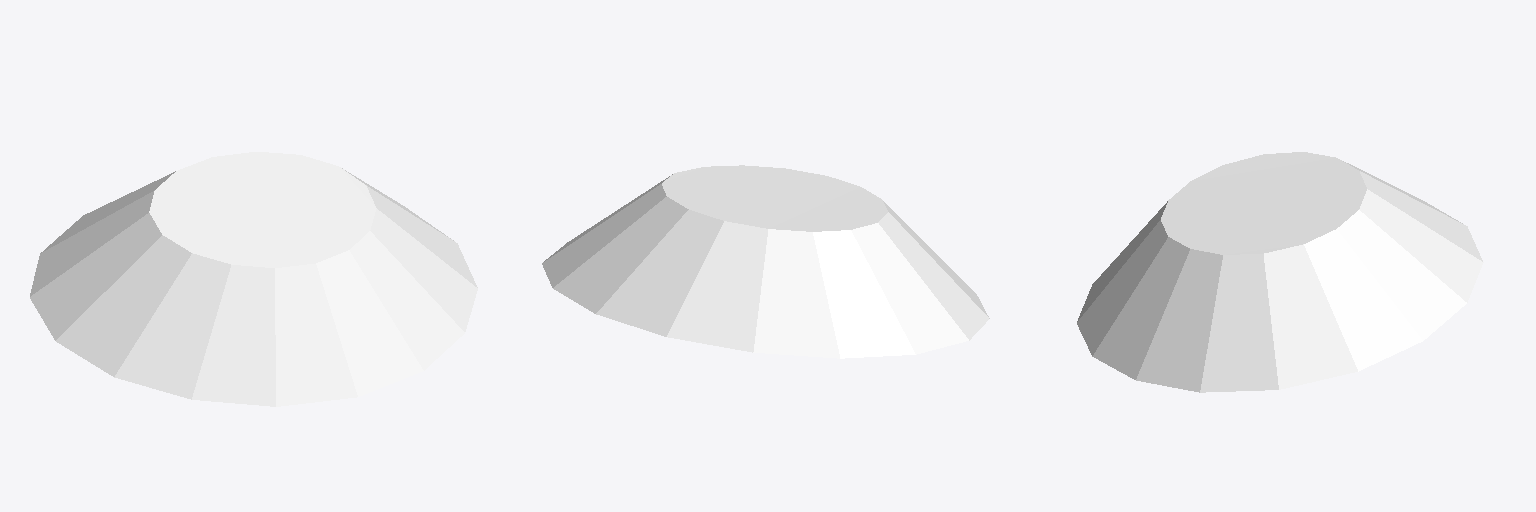
The model's file is denggan-dengpao.obj.
The picture shows the model from 3 angles: view 1: azimuth 30°, elevation 25°; view 2: azimuth 150°, elevation 25°; view 3: azimuth 270°, elevation 25°; orthographic projection.
Visible parts, largest first — view 1: denggan_dengpao; view 2: denggan_dengpao; view 3: denggan_dengpao.
Boxes of the visible parts, x1,y1,x2,y2 form: denggan_dengpao: [30, 152, 477, 406]; denggan_dengpao: [542, 165, 989, 358]; denggan_dengpao: [1077, 152, 1483, 392].
Size of the model in its own units: 471 by 150 by 413.